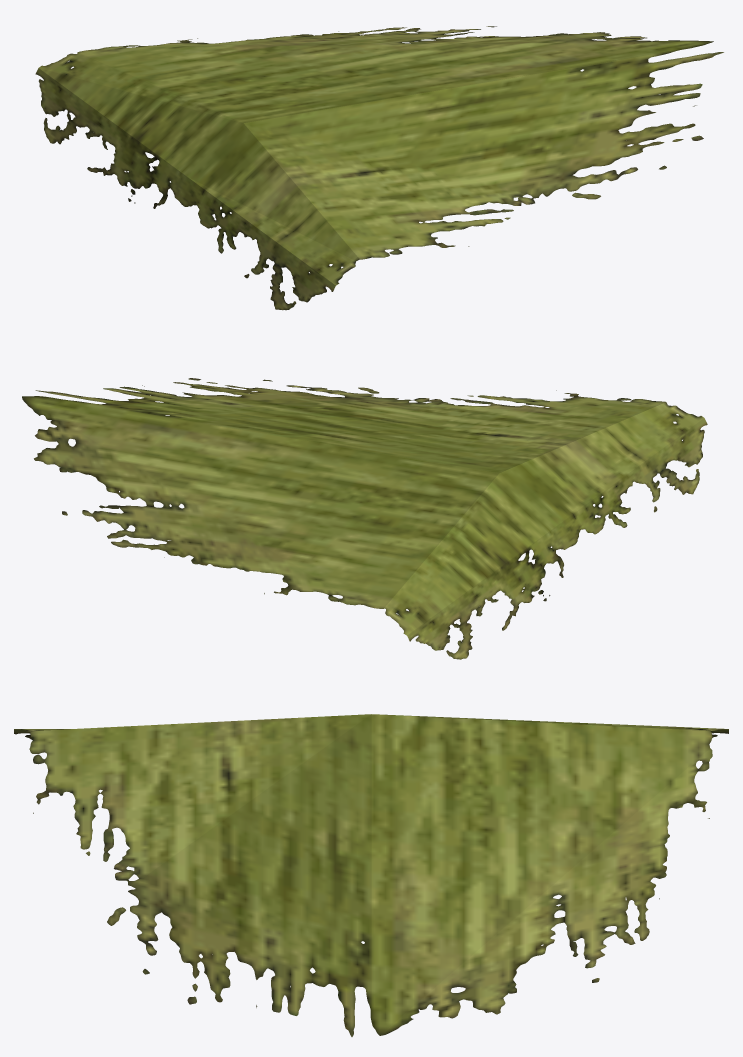
Rendered from veg_fern_balcny_kb2.obj.
3 views of the same model, one above another, from view 1: azimuth 30°, elevation 25°; view 2: azimuth 150°, elevation 25°; view 3: azimuth 270°, elevation 25° (orthographic). The views are drawn at different scales.
Visible parts, largest first — view 1: veg_fern_balcny_kb2; view 2: veg_fern_balcny_kb2; view 3: veg_fern_balcny_kb2.
Part boxes in pixels (bbox=[...]): veg_fern_balcny_kb2: bbox=[35, 26, 723, 310]; veg_fern_balcny_kb2: bbox=[22, 378, 707, 659]; veg_fern_balcny_kb2: bbox=[14, 714, 728, 1036].
Bounding box in the file's own units: 3.3 × 0.4671 × 3.
1 material, 1 textured.
